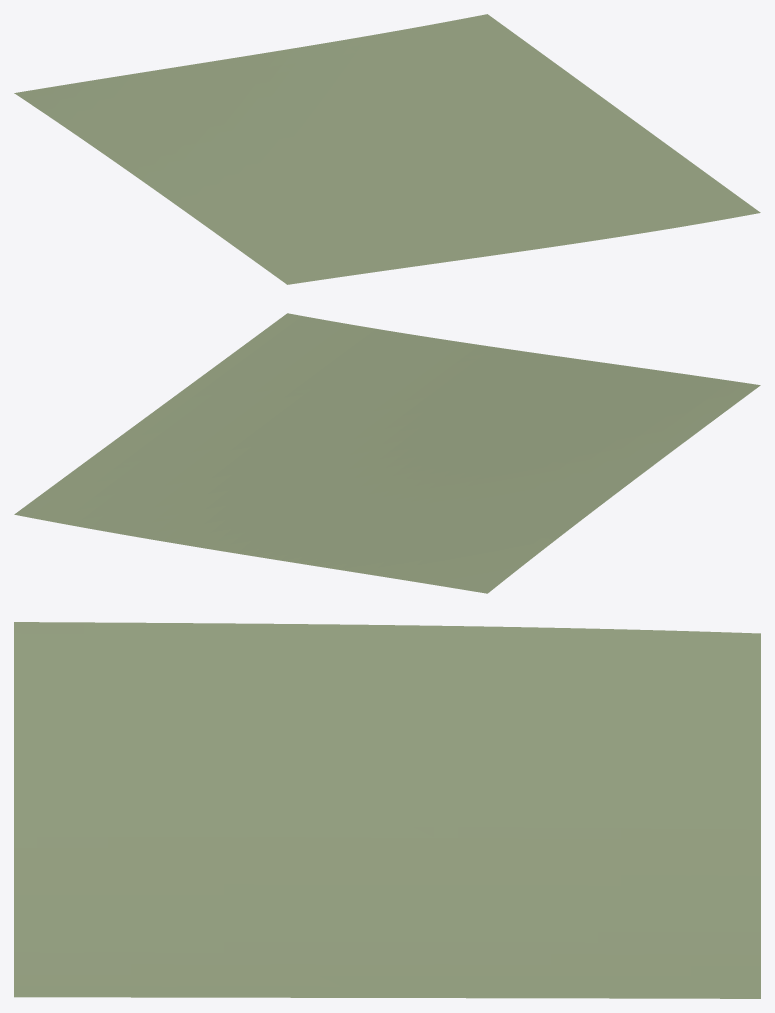
The model's file is valley-3-10.glb.
3 renders of one model, top to bottom at view 1: azimuth 30°, elevation 25°; view 2: azimuth 150°, elevation 25°; view 3: azimuth 270°, elevation 25°, orthographic. The views are drawn at different scales.
Visible parts, largest first — view 1: valley-3-10; view 2: valley-3-10; view 3: valley-3-10.
Part boxes in pixels (x1,y1,x2,y2): valley-3-10: (14,14,760,284); valley-3-10: (14,313,760,593); valley-3-10: (14,622,760,998).
Bounding box in the file's own units: 256 × 23.17 × 256.
